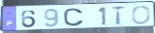1: (98, 6, 107, 26)
6: (21, 9, 38, 28)
9: (43, 8, 60, 29)
C: (63, 8, 86, 28)
O: (131, 5, 152, 25)
T: (111, 5, 127, 26)
